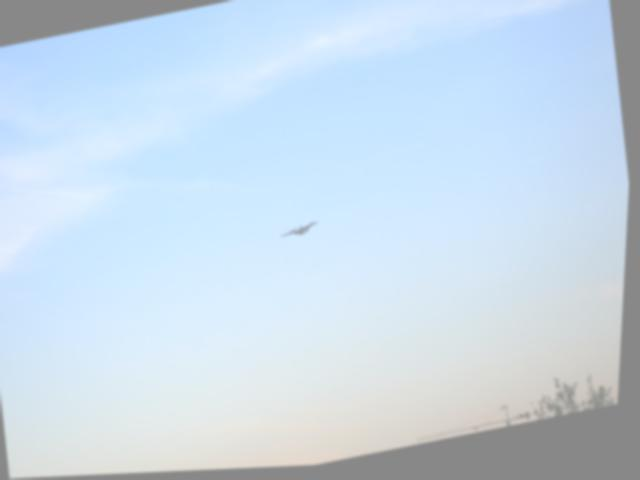plane: (281, 224, 321, 242)
